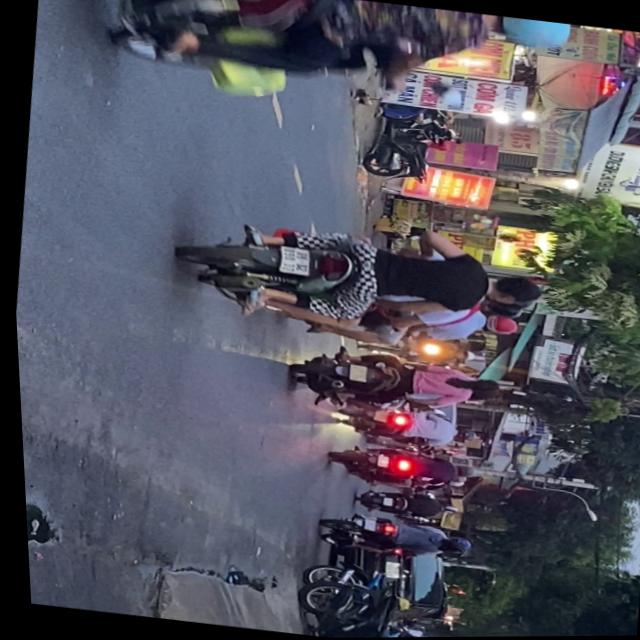helmet: (485, 15, 575, 55), (476, 313, 516, 337)
licenseplate: (44, 0, 580, 136), (162, 203, 549, 363), (280, 339, 503, 426)
motorcyclist: (479, 271, 540, 309), (459, 375, 495, 393)
nohelmet: (275, 246, 307, 275), (343, 363, 364, 382)
